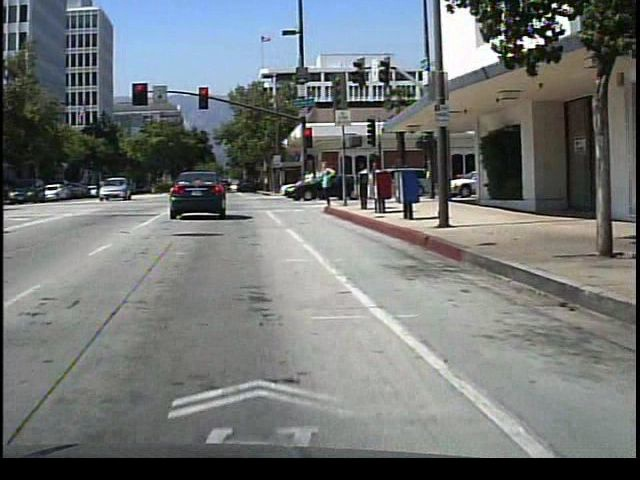person: (317, 153, 341, 212), (368, 156, 387, 204), (357, 158, 375, 201)
